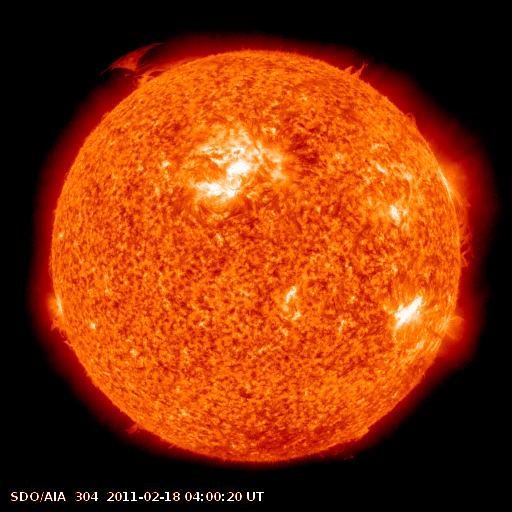prominence: (89, 37, 208, 93), (443, 184, 481, 274), (38, 288, 80, 353), (330, 47, 378, 89), (108, 408, 154, 445), (397, 100, 424, 132)
